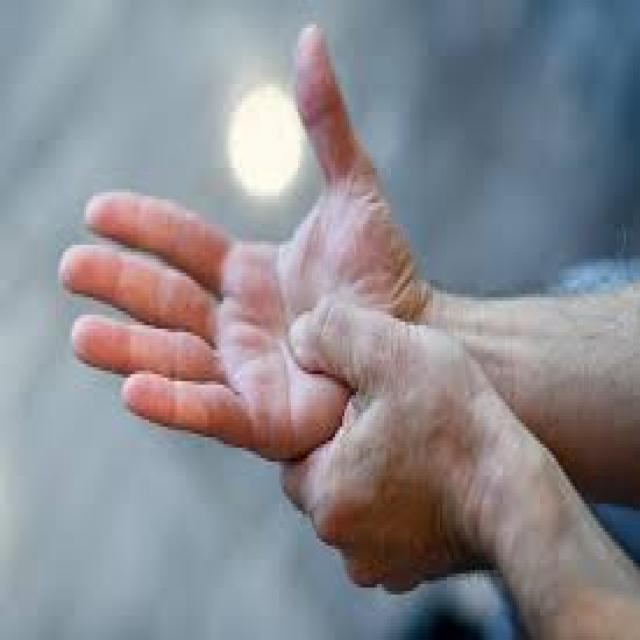hand: (57, 14, 441, 474)
